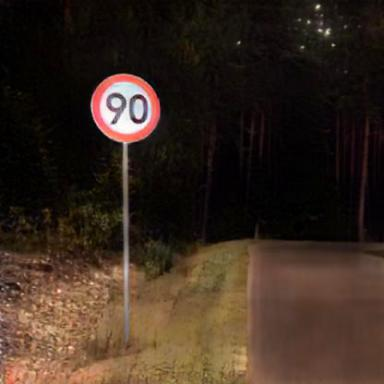Speed_limit_90: (92, 74, 158, 142)
